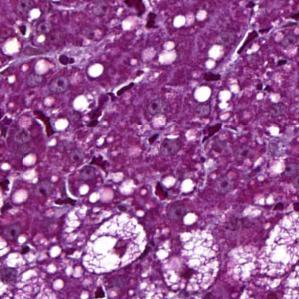ballooning: (153, 227, 221, 294), (80, 212, 147, 274)
